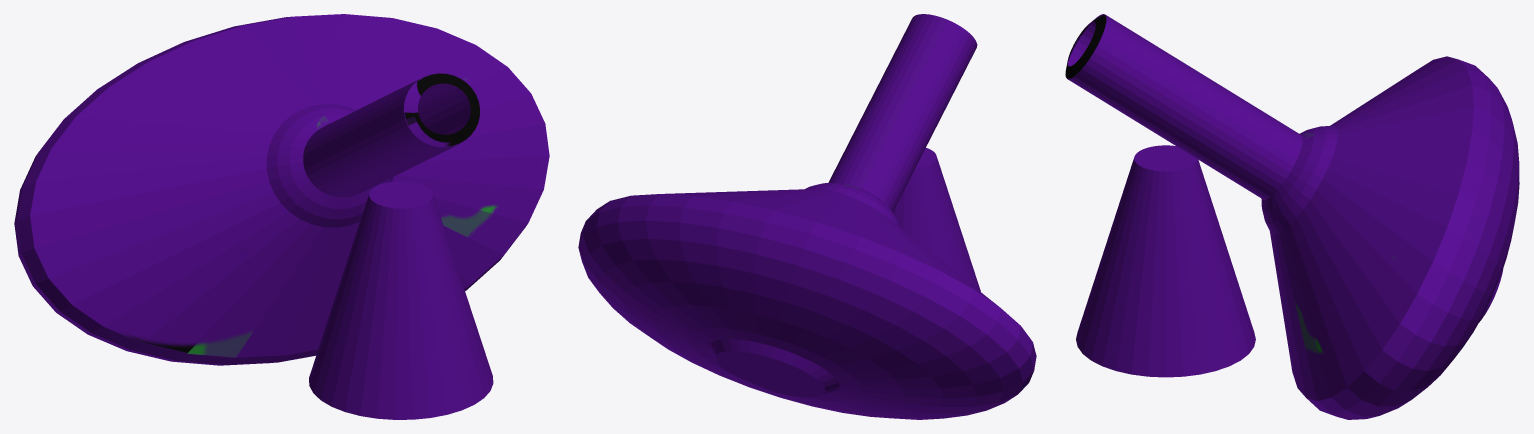
The model's file is epuisé.glb.
The picture shows the model from 3 angles, left to right: view 1: azimuth 30°, elevation 25°; view 2: azimuth 150°, elevation 25°; view 3: azimuth 270°, elevation 25°; orthographic projection. The views are drawn at different scales.
Visible parts, largest first — view 1: Cube.003; view 2: Cube.003; view 3: Cube.003.
Boxes of the visible parts, box(x1,y1,x2,y2) form: Cube.003: box(14, 14, 549, 419); Cube.003: box(578, 14, 1036, 419); Cube.003: box(1065, 14, 1519, 419).
Bounding box in the file's own units: 6.5 × 4.33 × 5.04.
Materials: 1 (1 with a texture image).
